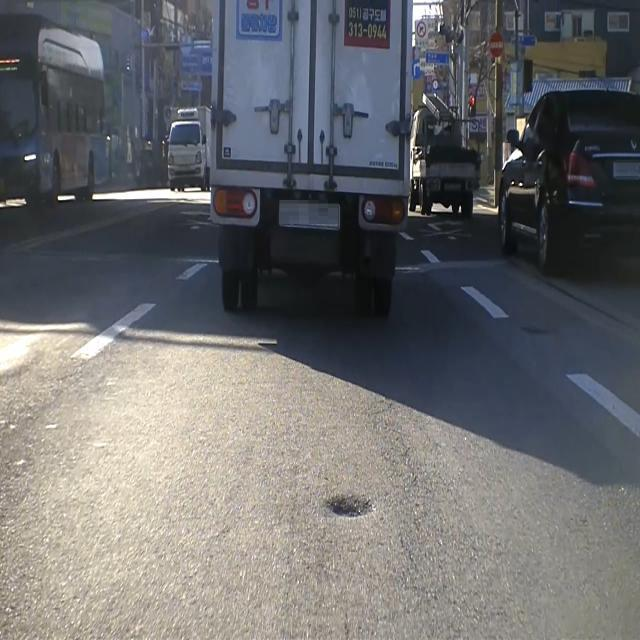Buraco: (322, 491, 381, 523)
